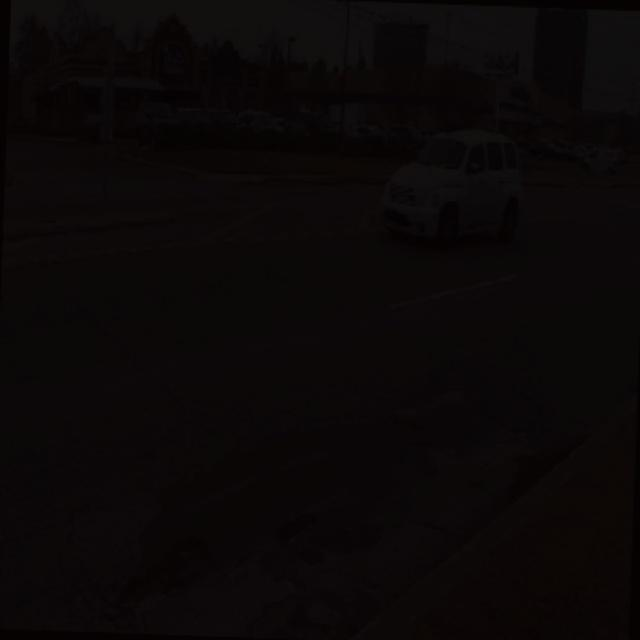Pothole: (110, 534, 240, 612), (507, 423, 593, 523), (250, 589, 352, 640), (269, 508, 335, 573), (370, 401, 441, 440)
